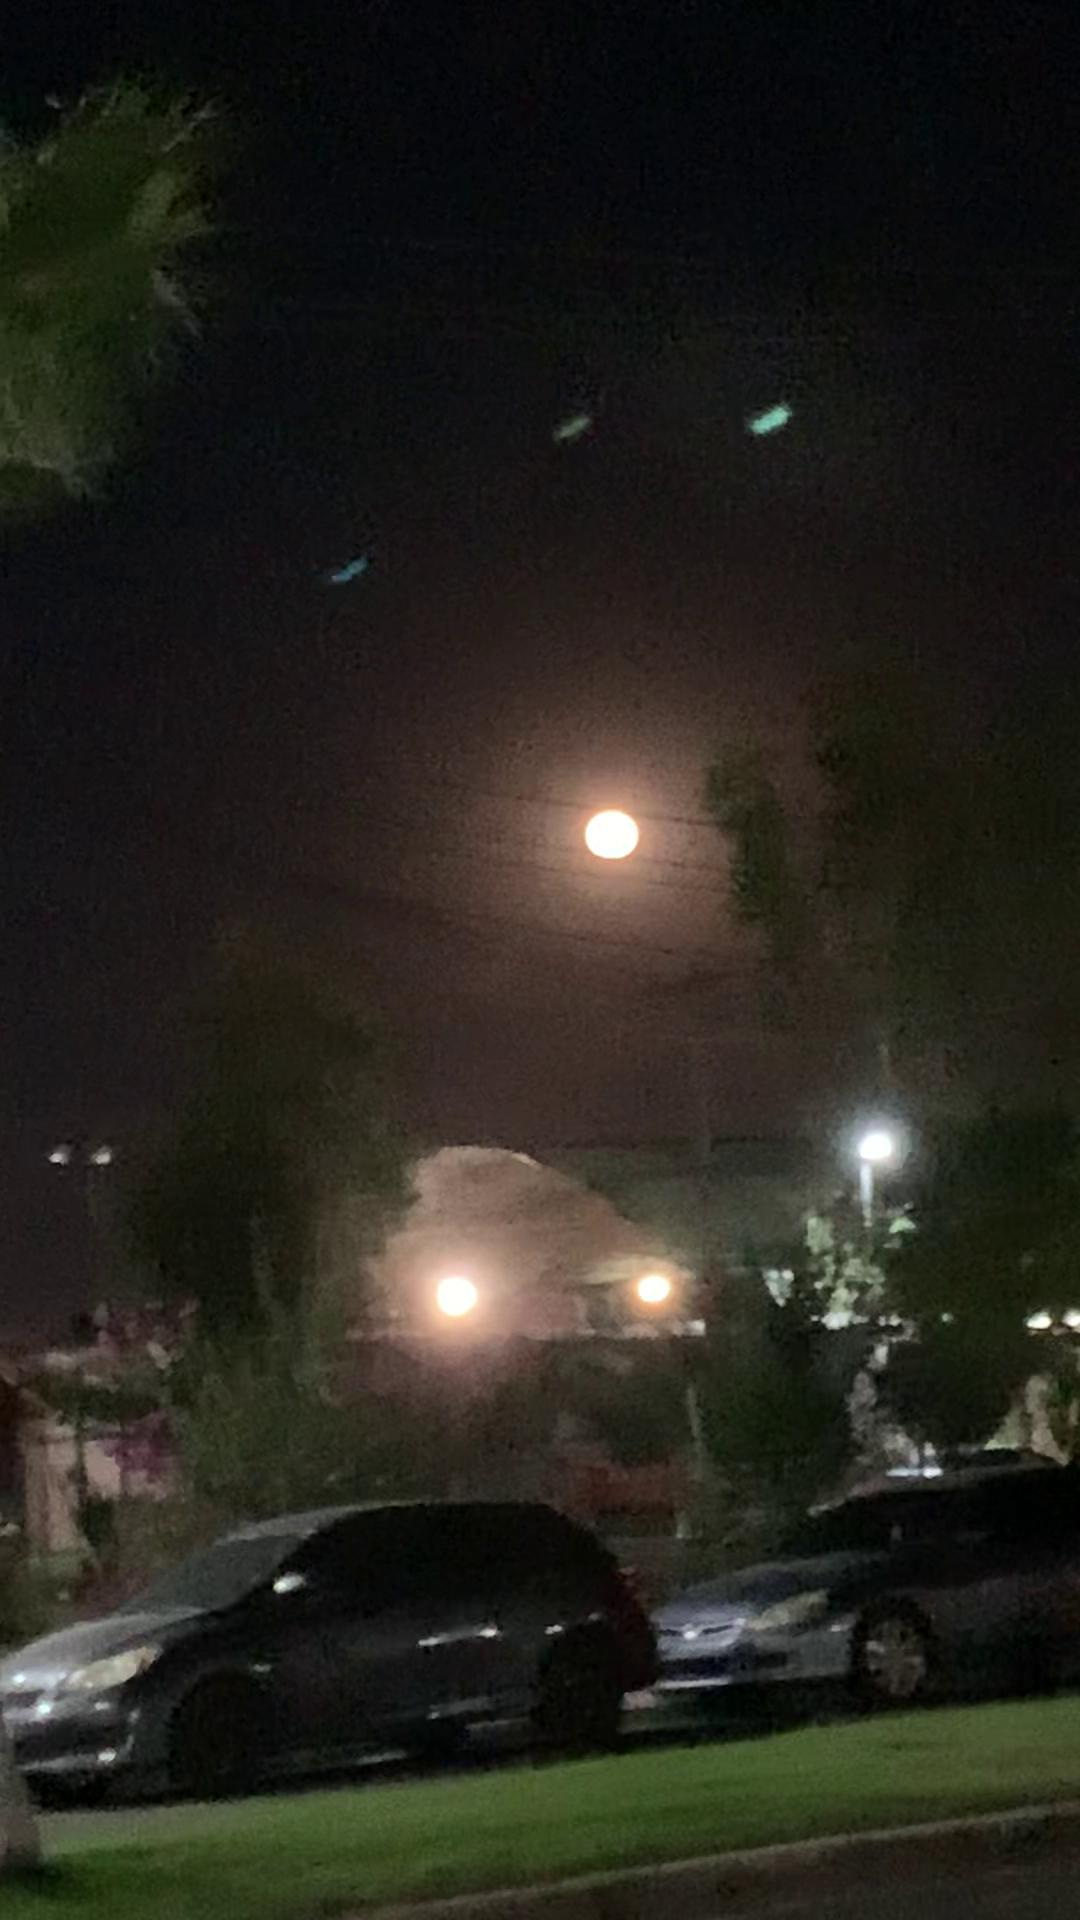moon: (592, 760, 684, 857)
